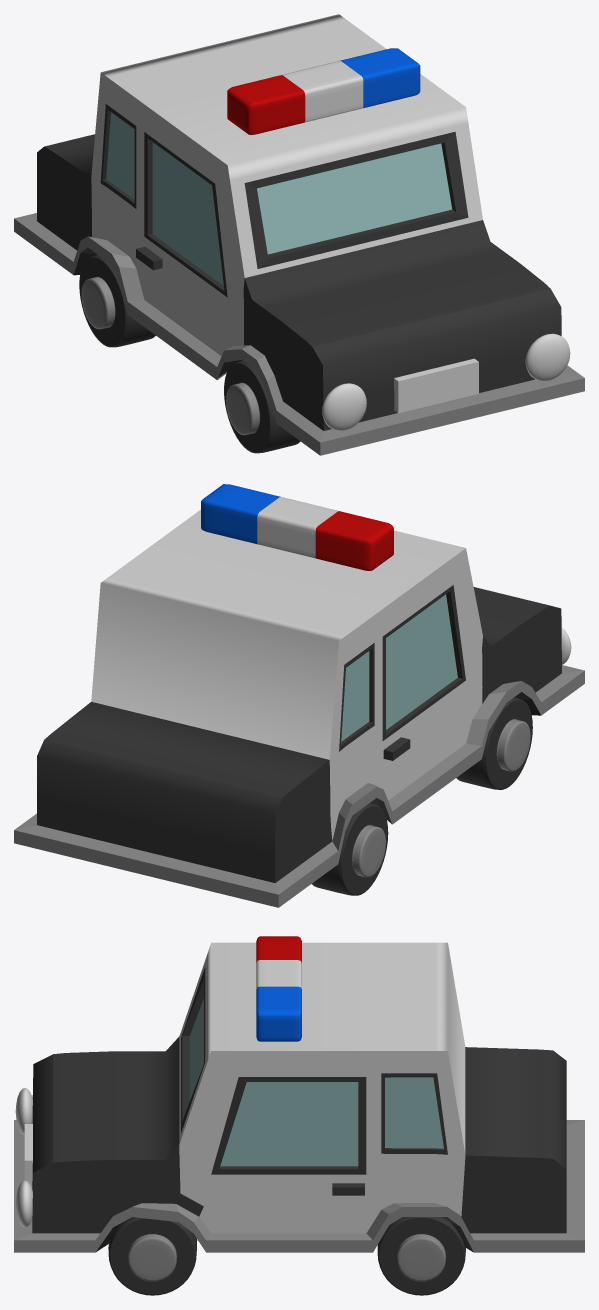
The model's file is police_car.fbx.
3 renders of one model, top to bottom at view 1: azimuth 30°, elevation 25°; view 2: azimuth 150°, elevation 25°; view 3: azimuth 270°, elevation 25°, orthographic. The views are drawn at different scales.
Visible parts, largest first — view 1: pCube18, pCube14, pCylinder27, pCylinder28, pSphere9, pCube15; view 2: pCube18, pCube14, pCylinder28, pCylinder27; view 3: pCube18, pCylinder30, pCylinder29, pCube14, pSphere9, pCube15.
Boxes of the visible parts, x1,y1,x2,y2 form: pCube18: [14, 14, 584, 455]; pCube14: [227, 48, 420, 134]; pCylinder27: [224, 360, 300, 453]; pCylinder28: [79, 254, 155, 347]; pSphere9: [322, 333, 570, 430]; pCube15: [394, 358, 478, 413]; pCube18: [14, 509, 584, 907]; pCube14: [201, 484, 393, 570]; pCylinder28: [312, 803, 388, 895]; pCylinder27: [456, 697, 532, 789]; pCube18: [14, 942, 584, 1252]; pCylinder30: [377, 1217, 465, 1295]; pCylinder29: [108, 1217, 197, 1295]; pCube14: [256, 936, 301, 1041]; pSphere9: [15, 1088, 32, 1227]; pCube15: [24, 1124, 32, 1188].
Bounding box in the file's own units: 6.15 × 6.13 × 11.7.
